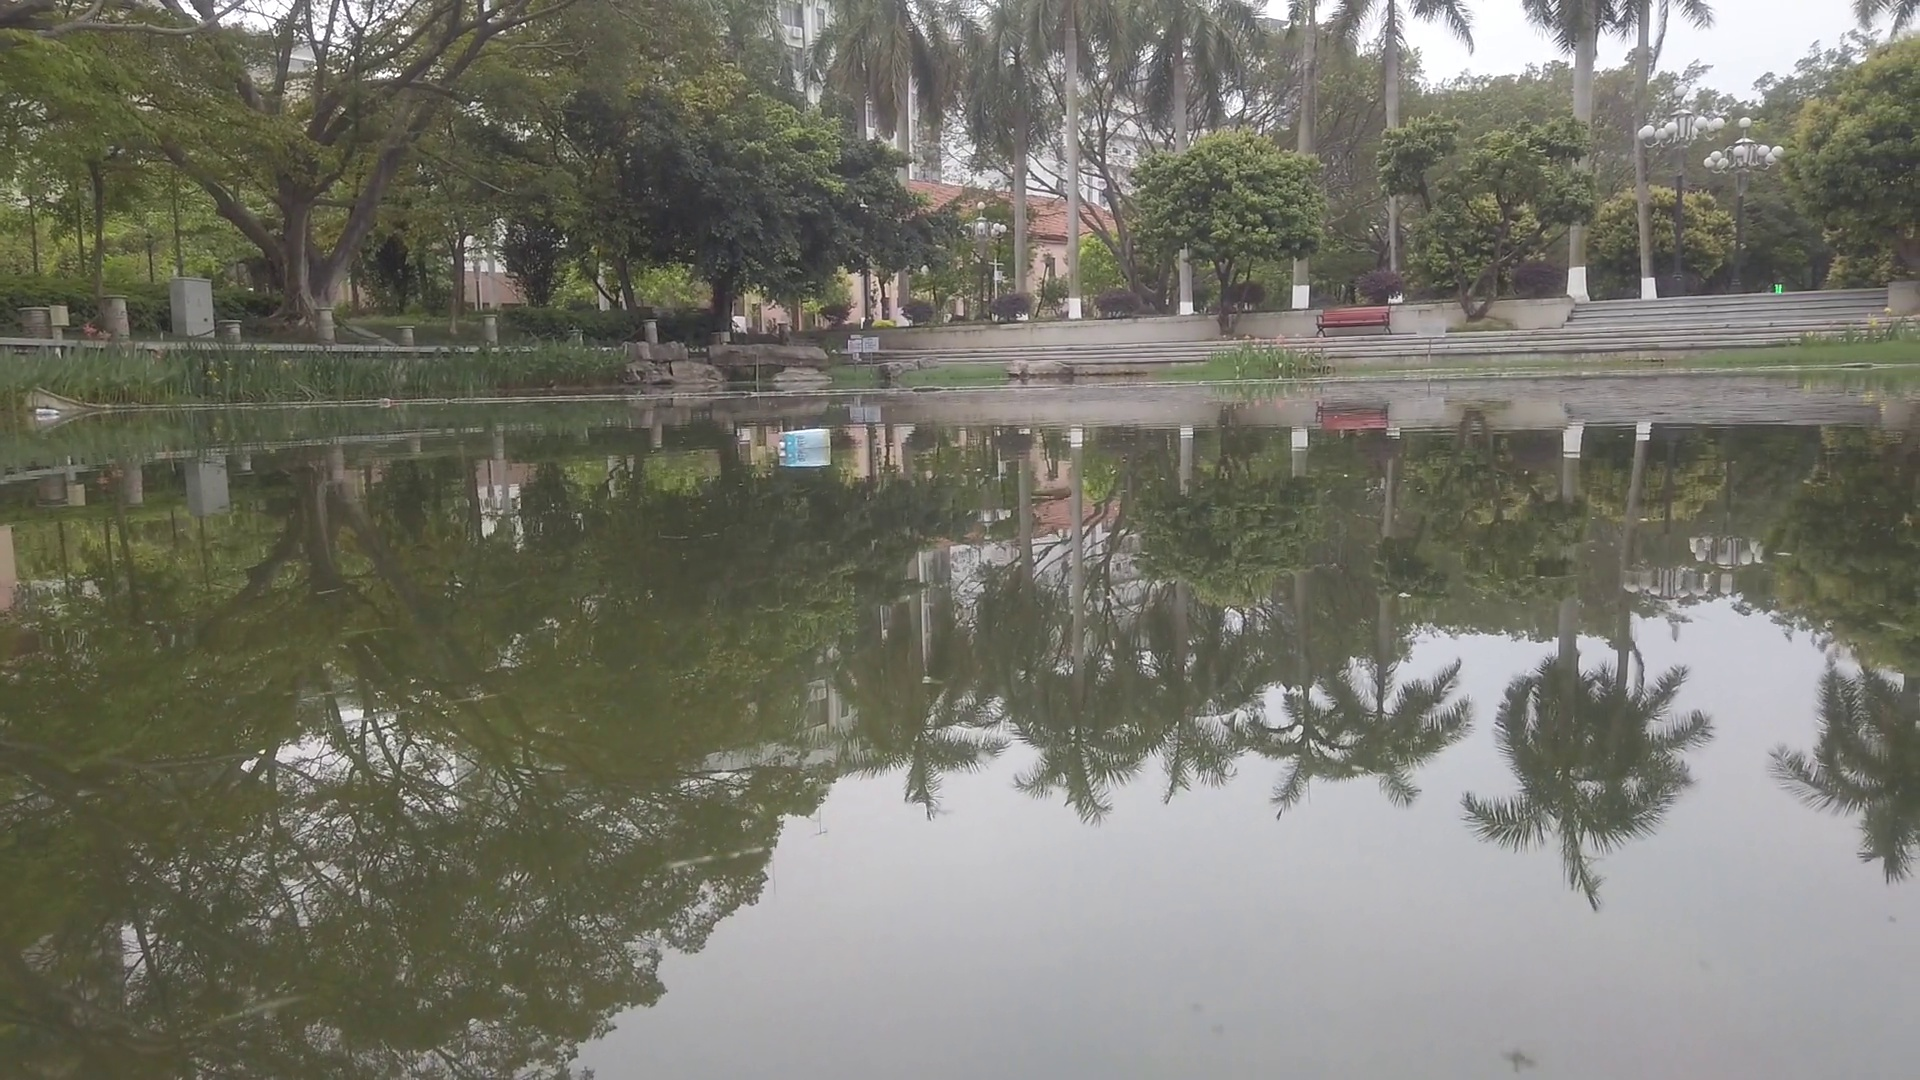bottle: (36, 407, 62, 419), (378, 398, 392, 407)
carton: (777, 429, 832, 454)
